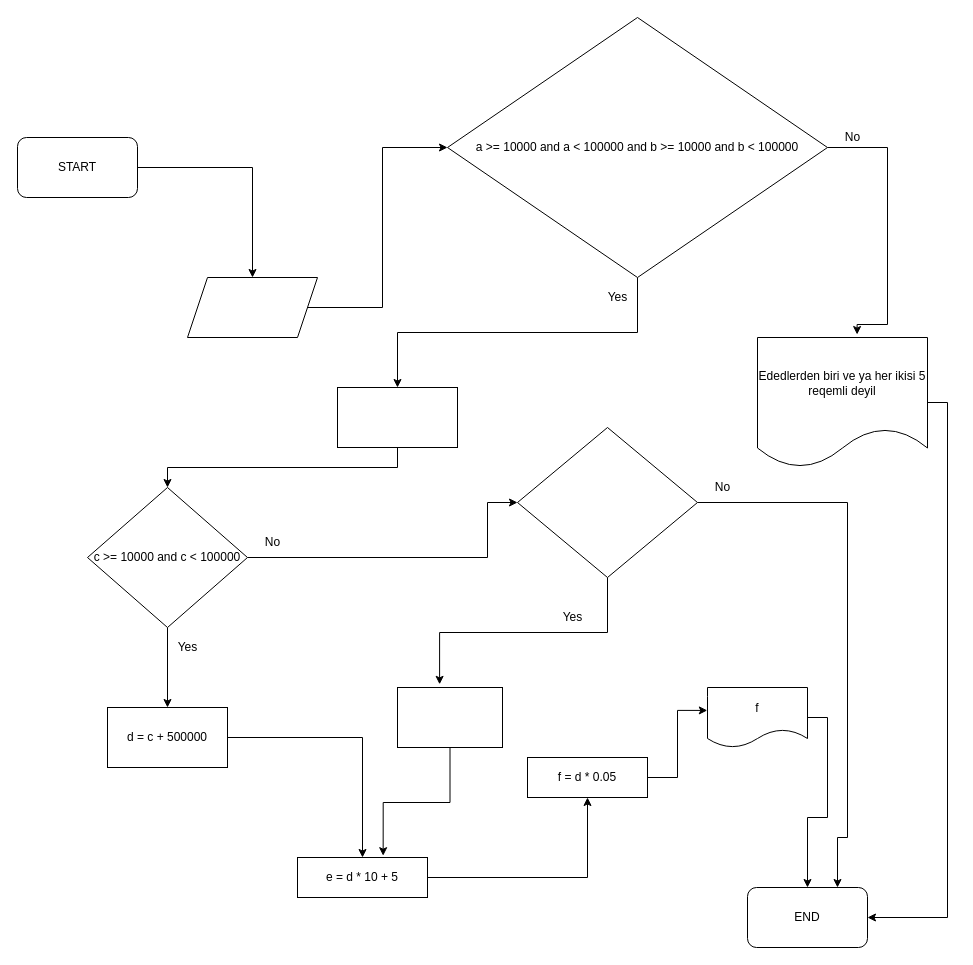
This 973x965 diagram has some shape labels left out. Each missing label, with the centre of its shape:
"a, b" belongs at pixel 252 307.
"c = a +b" belongs at pixel 397 417.
"c >= 100000 and c < 1000000" belongs at pixel 607 502.
"d = c + 5000000" belongs at pixel 449 717.
